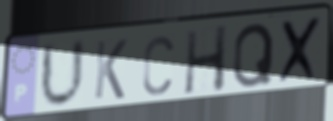C: (140, 33, 176, 98)
H: (182, 23, 230, 98)
K: (92, 37, 129, 102)
Q: (230, 20, 276, 90)
U: (38, 36, 88, 111)
X: (276, 13, 327, 87)
